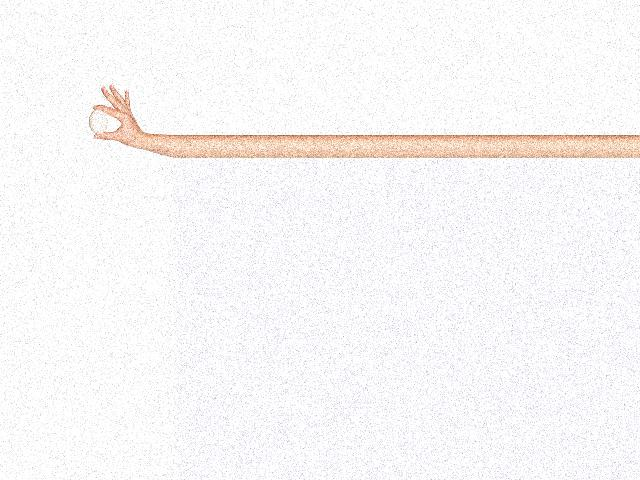egg: (88, 109, 107, 134)
